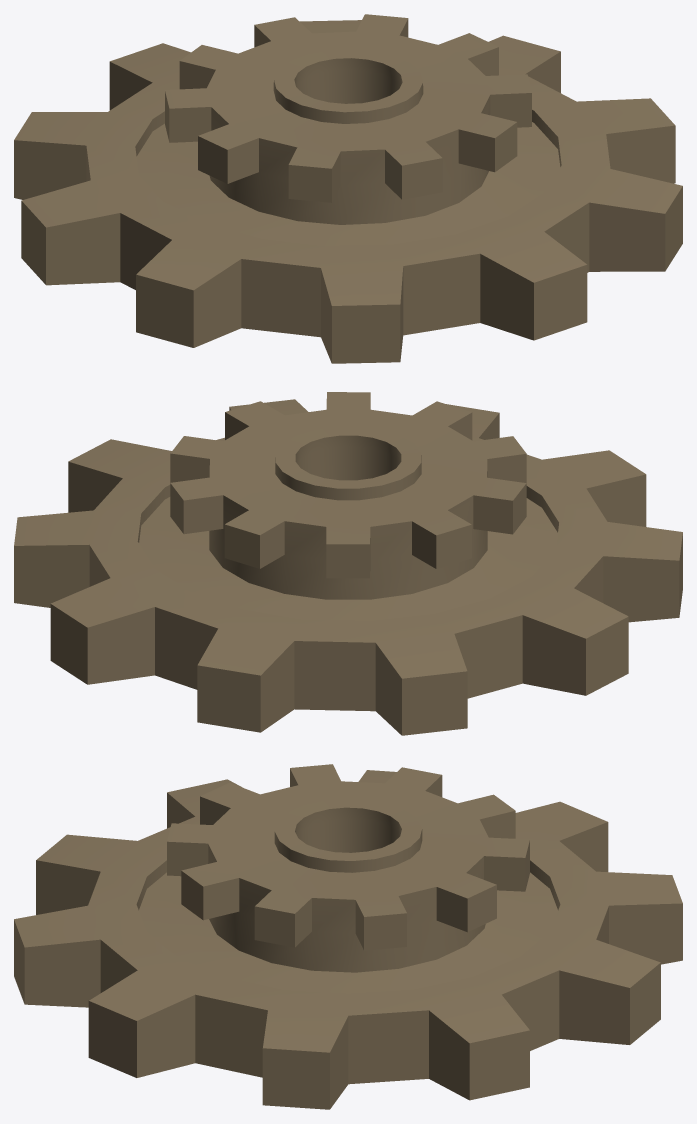
Rendered from gear_03.fbx.
3 renders of one model, top to bottom at view 1: azimuth 30°, elevation 25°; view 2: azimuth 150°, elevation 25°; view 3: azimuth 270°, elevation 25°, orthographic.
Visible parts, largest first — view 1: gear_01_pPipe1; view 2: gear_01_pPipe1; view 3: gear_01_pPipe1.
Boxes of the visible parts, box(x1,y1,x2,y2) form: gear_01_pPipe1: box(14, 14, 682, 363); gear_01_pPipe1: box(14, 392, 682, 735); gear_01_pPipe1: box(14, 764, 682, 1109).
Size of the model in its own units: 20.47 by 4.91 by 20.47.
